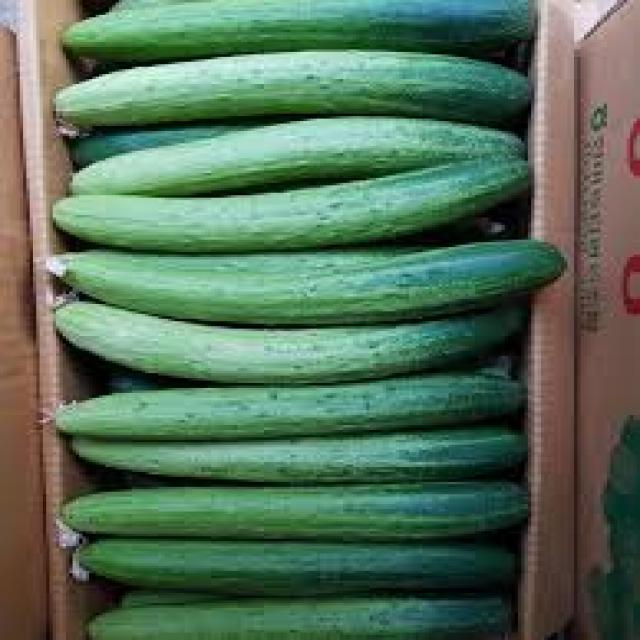Cucumber: (53, 158, 531, 253), (59, 240, 567, 326), (56, 301, 528, 385), (56, 49, 531, 126), (73, 116, 528, 196), (56, 373, 528, 441), (63, 482, 528, 542), (79, 541, 518, 597)
